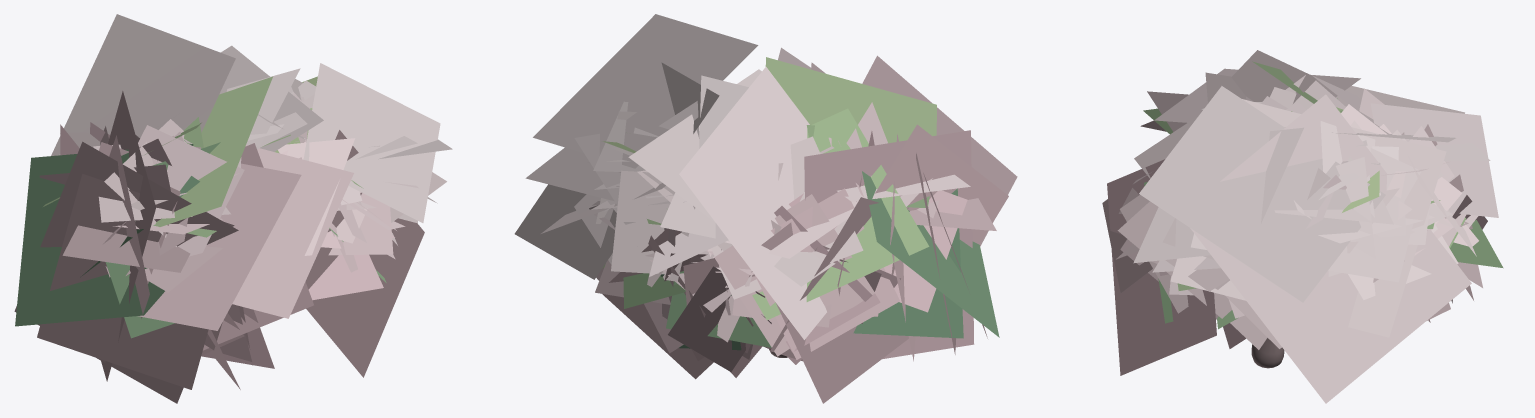
The model's file is crab_apple_v2.glb.
3 views of the same model, side by side, from view 1: azimuth 30°, elevation 25°; view 2: azimuth 150°, elevation 25°; view 3: azimuth 270°, elevation 25° (orthographic). The views are drawn at different scales.
Visible parts, largest first — view 1: far, near; view 2: far, near; view 3: far, near.
Part boxes in pixels (x1,y1,x2,y2): far: (14, 14, 452, 403); near: (62, 63, 446, 389); far: (514, 14, 1017, 403); near: (574, 75, 996, 379); far: (1102, 61, 1471, 403); near: (1116, 50, 1503, 368).
Bounding box in the file's own units: 12.94 × 7.88 × 10.59.
